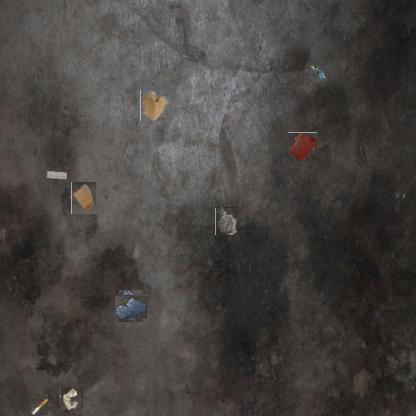dirty: (140, 90, 170, 121), (70, 184, 98, 213), (215, 207, 238, 235), (60, 387, 82, 409), (30, 396, 48, 416), (308, 64, 326, 82), (45, 170, 67, 180)
liquid: (288, 132, 317, 162), (118, 292, 146, 320)
